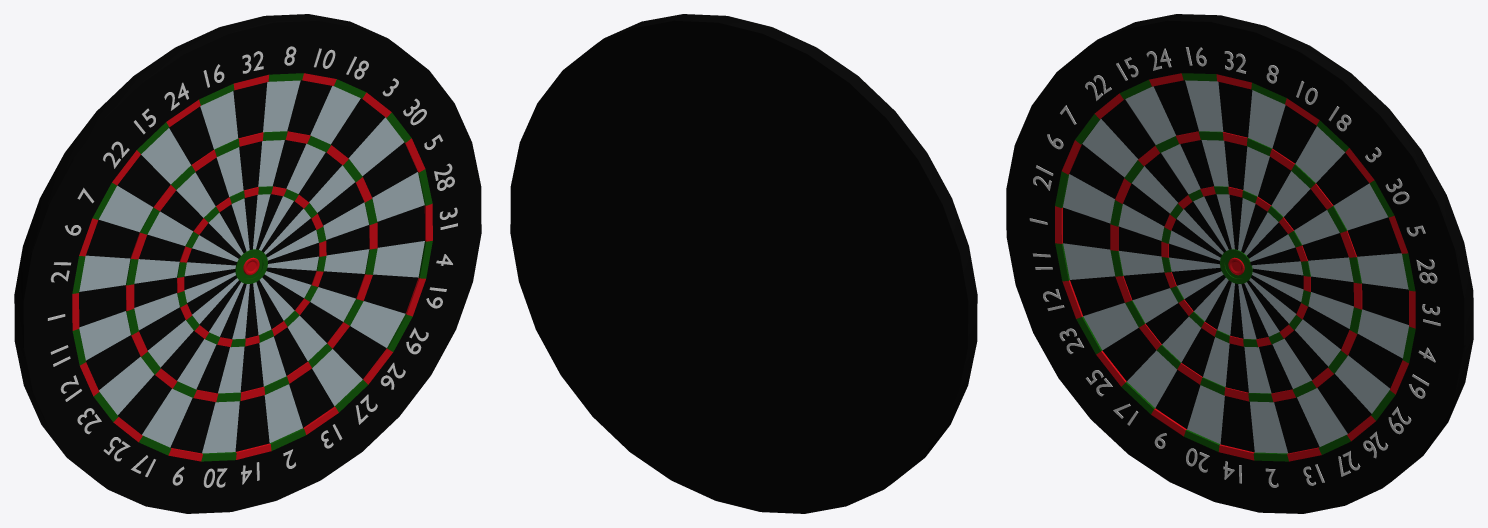
File: DartBoard.fbx
3 views of the same model, side by side, from view 1: azimuth 30°, elevation 25°; view 2: azimuth 150°, elevation 25°; view 3: azimuth 330°, elevation 25° (orthographic).
Visible parts, largest first — view 1: Circle, Text; view 2: Circle; view 3: Circle, Text.
Boxes of the visible parts, x1,y1,x2,y2 form: Circle: [14, 14, 481, 513]; Text: [47, 46, 457, 487]; Circle: [510, 14, 977, 513]; Circle: [1006, 14, 1473, 513]; Text: [1029, 47, 1440, 487].
Bounding box in the file's own units: 33.23 × 33.23 × 1.21.
